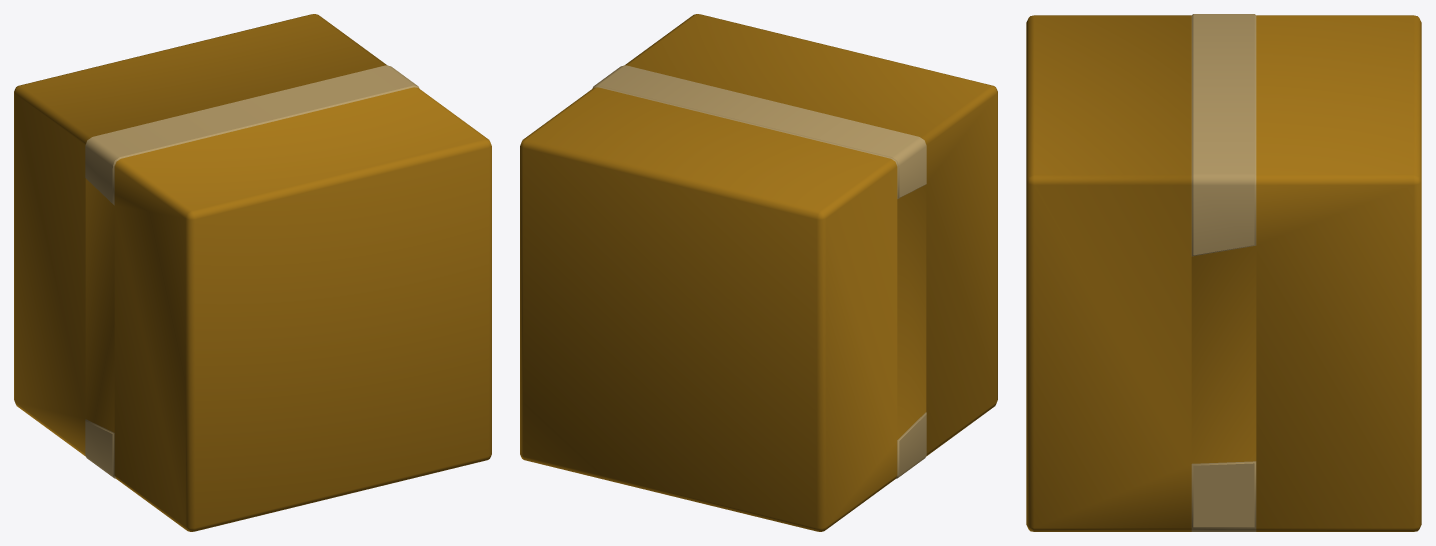
3 views of the same model, side by side, from view 1: azimuth 30°, elevation 25°; view 2: azimuth 150°, elevation 25°; view 3: azimuth 270°, elevation 25° (orthographic). The views are drawn at different scales.
Parts seen in each view (by area): view 1: 3x3x3; view 2: 3x3x3; view 3: 3x3x3.
Part boxes in pixels (x1,y1,x2,y2): 3x3x3: [14, 14, 491, 531]; 3x3x3: [520, 14, 997, 531]; 3x3x3: [1026, 14, 1421, 531].
Bounding box in the file's own units: 30 × 30 × 30.
